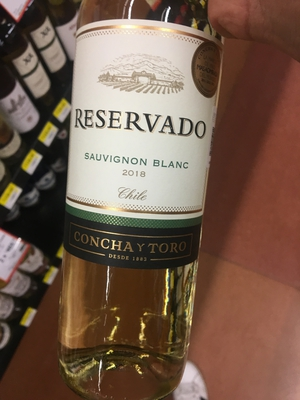reservado sauvignon blanc: (56, 5, 235, 395)
